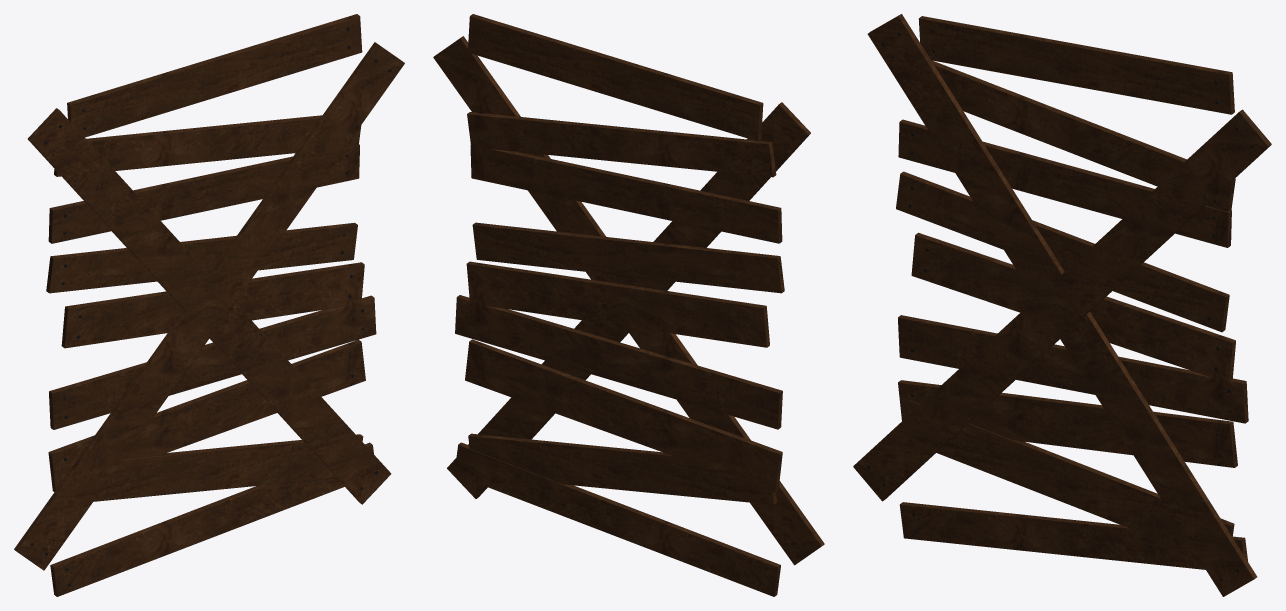
The model's file is Boarded_Opening.gltf.
The picture shows the model from 3 angles, left to right: view 1: azimuth 30°, elevation 25°; view 2: azimuth 150°, elevation 25°; view 3: azimuth 330°, elevation 25°; orthographic projection. The views are drawn at different scales.
Visible parts, largest first — view 1: Boarded_Opening_Planks; view 2: Boarded_Opening_Planks; view 3: Boarded_Opening_Planks.
Part boxes in pixels (x1=…): Boarded_Opening_Planks: x1=14, y1=14, x2=404, y2=596; Boarded_Opening_Planks: x1=433, y1=14, x2=824, y2=596; Boarded_Opening_Planks: x1=853, y1=14, x2=1271, y2=596.
Size of what is drawn, in the model's own units: 2.09 by 2.6 by 0.0736.
2 materials, 2 textured.
